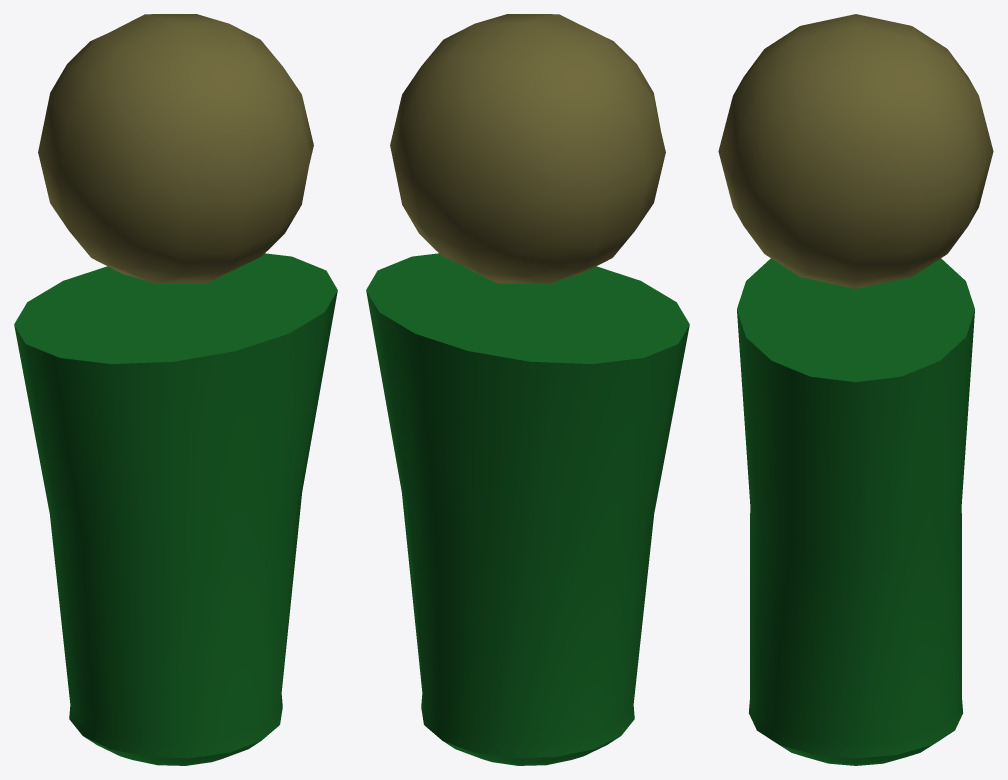
Rendered from Personagem5.fbx.
3 renders of one model, left to right at view 1: azimuth 30°, elevation 25°; view 2: azimuth 150°, elevation 25°; view 3: azimuth 270°, elevation 25°, orthographic.
Parts seen in each view (by area): view 1: Sphere.001; view 2: Sphere.001; view 3: Sphere.001.
Part boxes in pixels (x1=…): Sphere.001: x1=14, y1=14, x2=337, y2=765; Sphere.001: x1=366, y1=14, x2=689, y2=765; Sphere.001: x1=718, y1=14, x2=993, y2=765.
Size of the model in its own units: 268 by 618 by 213.
